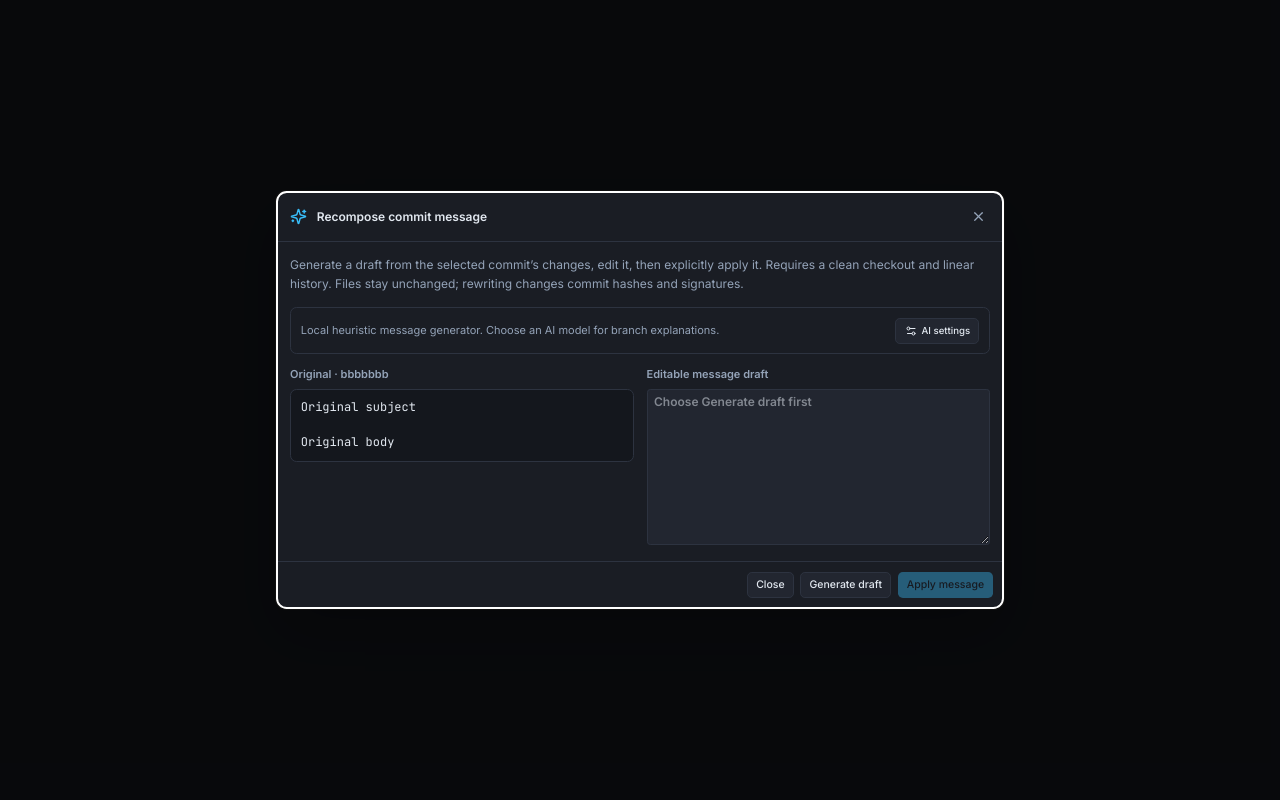
Test case: AI commit draft interactions › keeps editable text after application failure 0
Click the button "Generate draft" at (846, 585), box [800, 572, 891, 598]
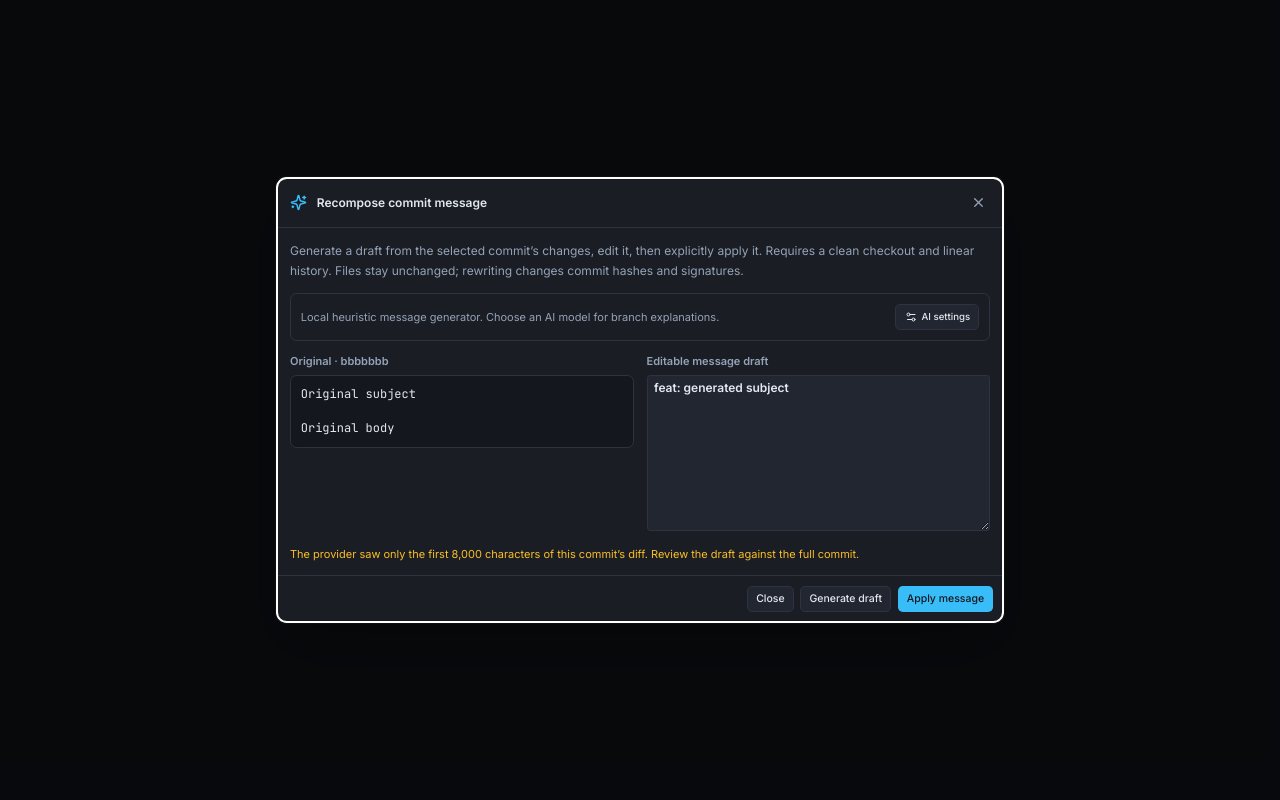
Result: the text box named "Recomposed commit message" holds "feat: generated subject" at [646, 375, 990, 531]
Click the button "Apply message" at (945, 599), box [898, 586, 993, 612]
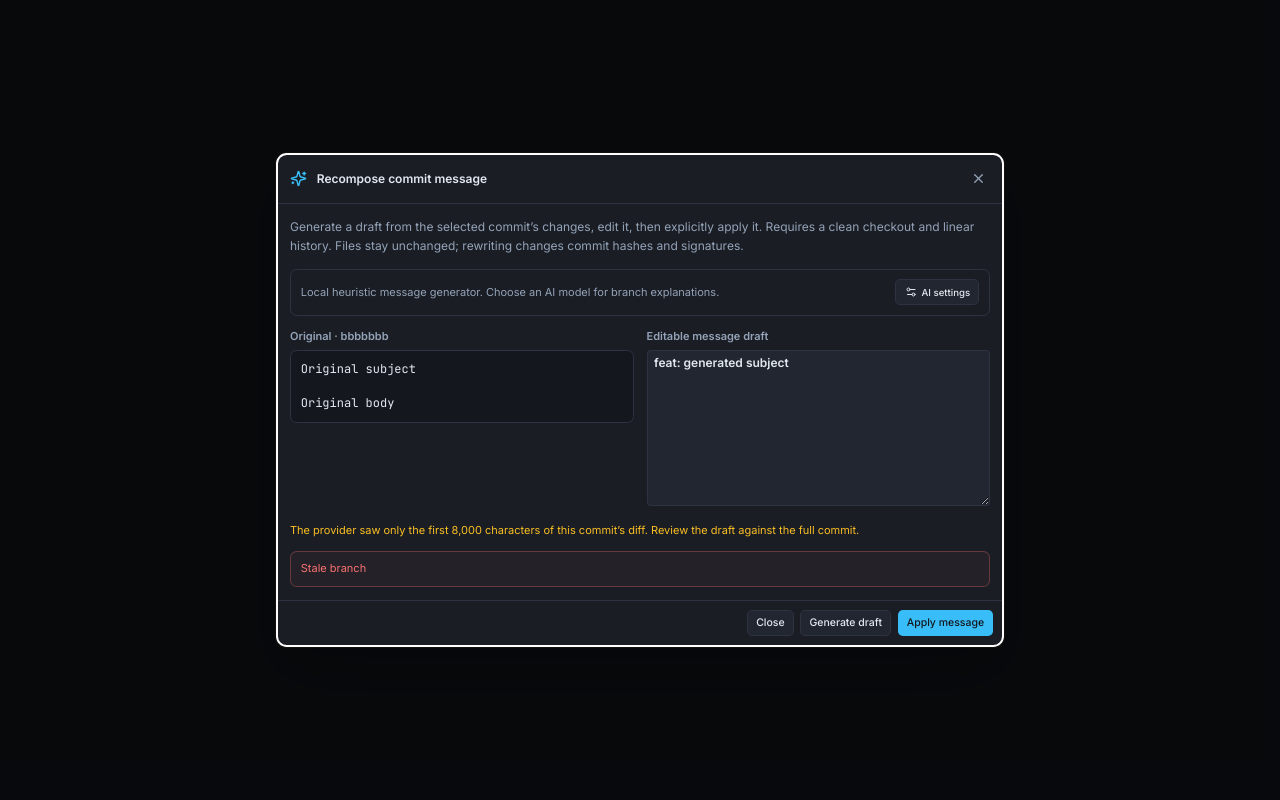
Result: the text box named "Recomposed commit message" holds "feat: generated subject" at [646, 350, 990, 506]
Result: the message reads "Stale branch" at [301, 561, 366, 575]
